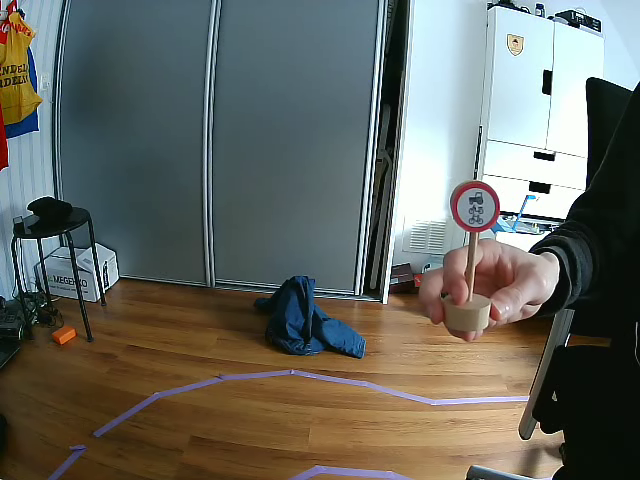fietspad: (451, 183, 501, 231)
